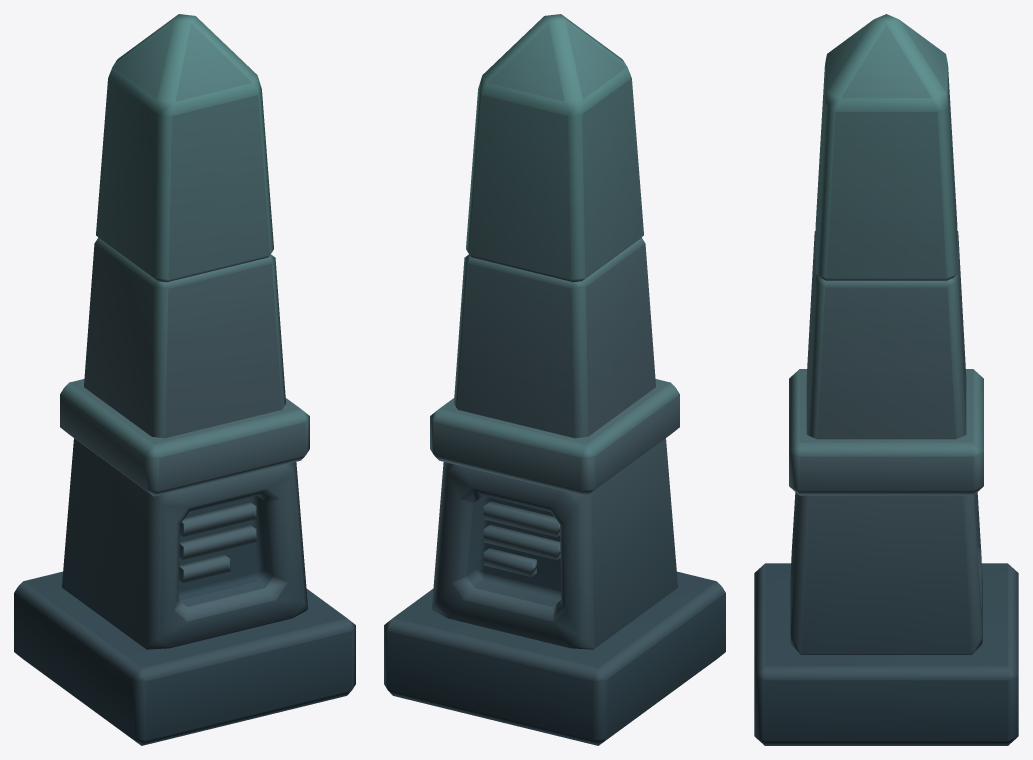
The model's file is obelisk.fbx.
The picture shows the model from 3 angles, left to right: view 1: azimuth 30°, elevation 25°; view 2: azimuth 150°, elevation 25°; view 3: azimuth 270°, elevation 25°; orthographic projection. The views are drawn at different scales.
Parts seen in each view (by area): view 1: obelisk; view 2: obelisk; view 3: obelisk.
Part boxes in pixels (x1=…): obelisk: x1=14, y1=14, x2=355, y2=745; obelisk: x1=384, y1=14, x2=725, y2=745; obelisk: x1=754, y1=14, x2=1018, y2=745.
Size of the model in its own units: 150 by 423 by 150.
